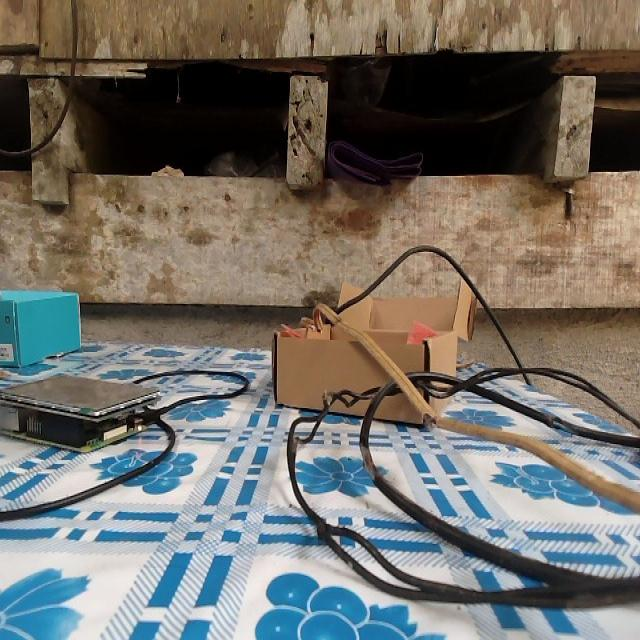-: (355, 444, 377, 477), (420, 409, 434, 424)
